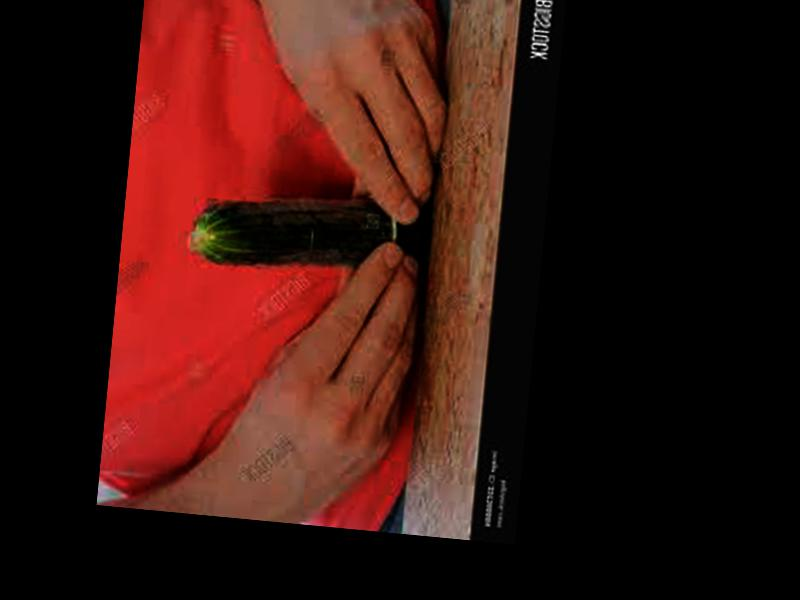Cucumber: (188, 184, 430, 284)
